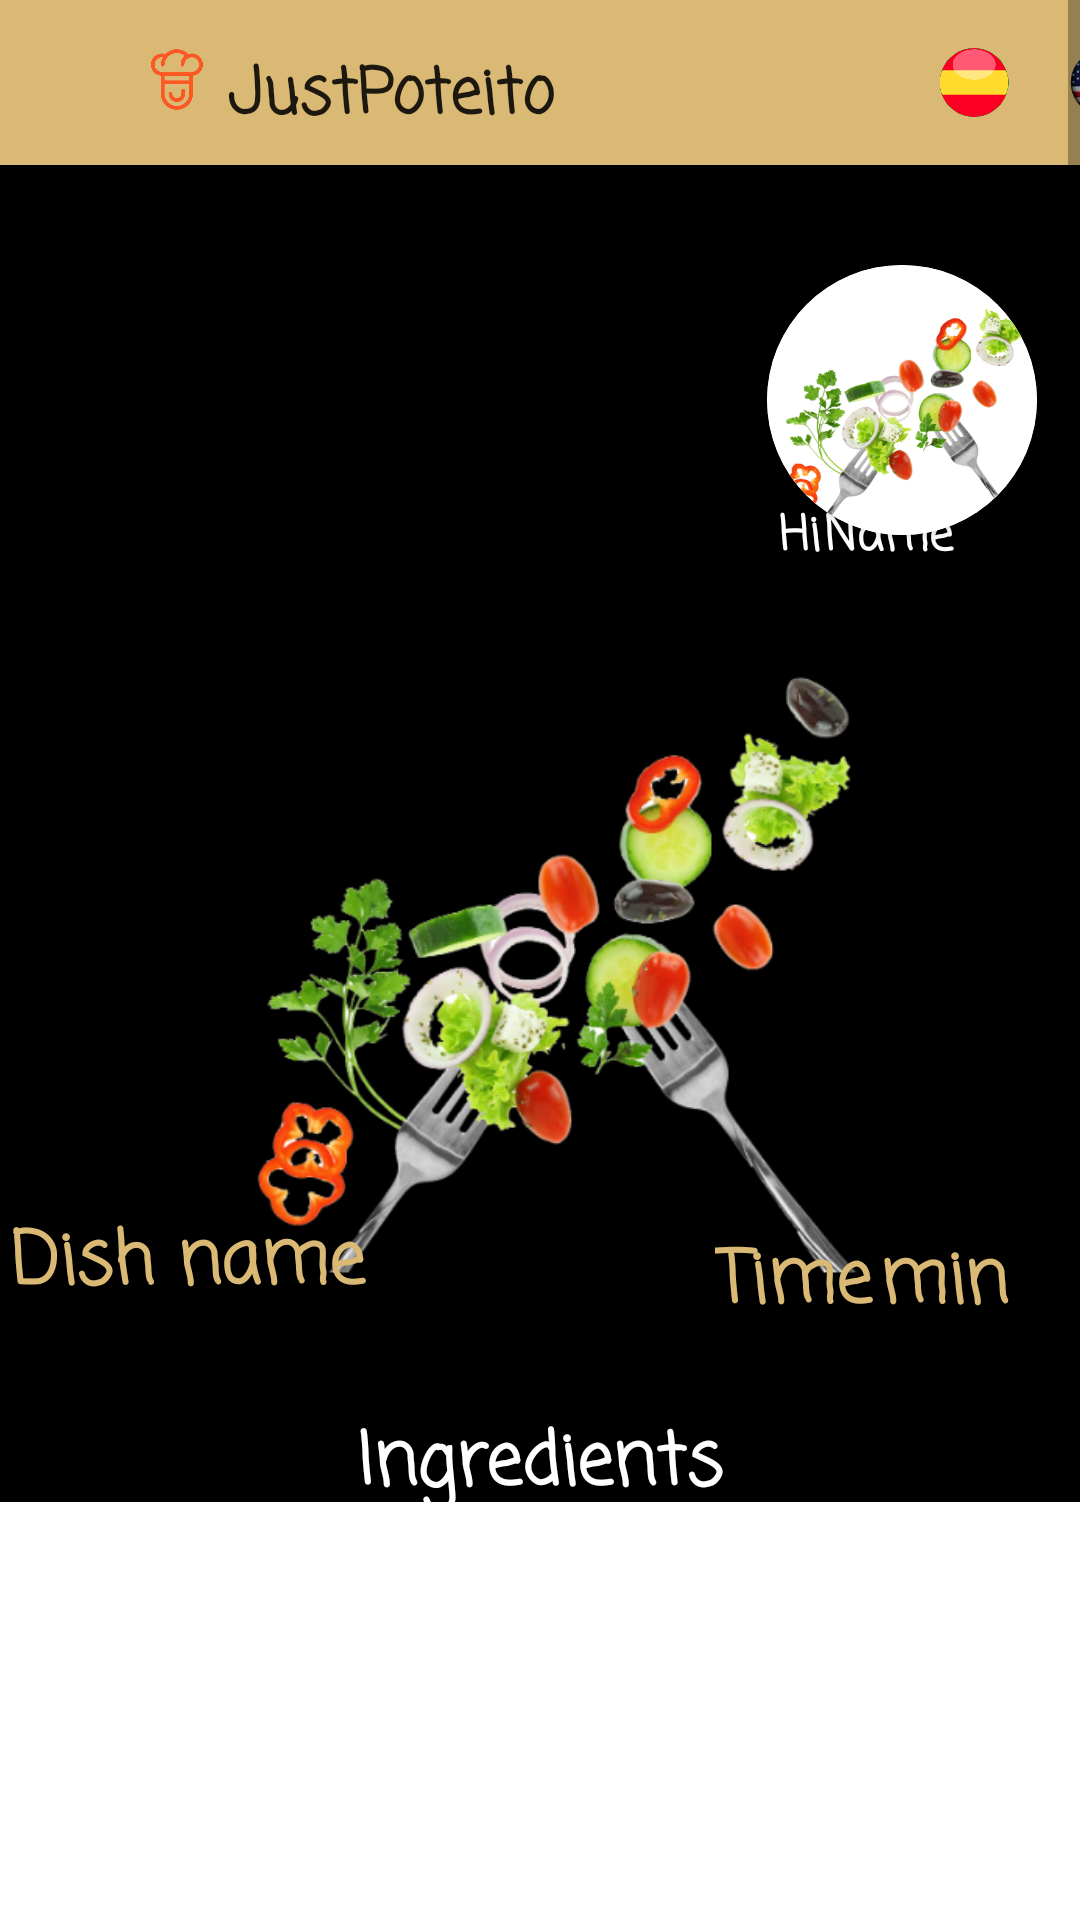

Named icons in this screenshot (1080 × 1920) and their bounding boxes, box=[x1, y1, x2, y2]:
spanish: box=[940, 48, 1009, 117]
